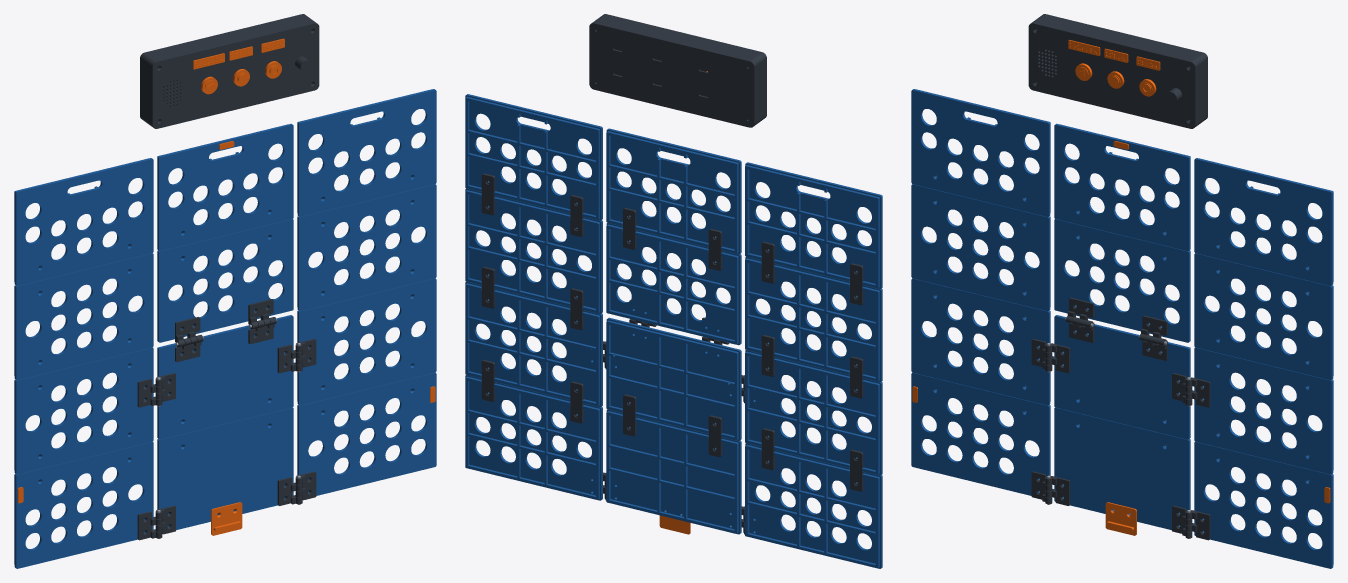
File: assembly_open.obj
3 views of the same model, side by side, from view 1: azimuth 30°, elevation 25°; view 2: azimuth 150°, elevation 25°; view 3: azimuth 330°, elevation 25° (orthographic).
Parts seen in each view (by area): view 1: panel_F1, panel_R4, panel_L4, panel_L3, panel_R3, panel_B2, panel_L2, panel_R2, panel_F2, panel_L1, panel_R1, panel_B1 (+9 smaller); view 2: control_base, panel_F1, panel_F2, panel_R4, panel_L4, panel_B2, panel_R1, panel_L1, panel_R2, panel_L2, panel_R3, panel_L3 (+17 smaller); view 3: panel_F1, panel_L4, panel_R4, panel_L3, panel_R3, panel_B2, panel_R2, panel_L2, panel_F2, panel_R1, panel_L1, control_lid (+9 smaller).
Part boxes in pixels (x1=…): panel_F1: x1=157, y1=407, x2=293, y2=530; panel_R4: x1=297, y1=89, x2=436, y2=216; panel_L4: x1=14, y1=158, x2=153, y2=285; panel_L3: x1=14, y1=253, x2=153, y2=380; panel_R3: x1=297, y1=184, x2=436, y2=311; panel_B2: x1=157, y1=123, x2=293, y2=251; panel_L2: x1=14, y1=347, x2=153, y2=474; panel_R2: x1=297, y1=278, x2=436, y2=405; panel_F2: x1=157, y1=315, x2=293, y2=439; panel_L1: x1=14, y1=441, x2=153, y2=568; panel_R1: x1=297, y1=372, x2=436, y2=495; panel_B1: x1=157, y1=219, x2=293, y2=342; control_base: x1=589, y1=15, x2=765, y2=127; panel_F1: x1=606, y1=409, x2=741, y2=534; panel_F2: x1=606, y1=317, x2=741, y2=440; panel_R4: x1=465, y1=94, x2=602, y2=220; panel_L4: x1=745, y1=162, x2=882, y2=288; panel_B2: x1=606, y1=128, x2=741, y2=254; panel_R1: x1=465, y1=375, x2=602, y2=500; panel_L1: x1=745, y1=443, x2=882, y2=568; panel_R2: x1=465, y1=281, x2=602, y2=407; panel_L2: x1=745, y1=350, x2=882, y2=475; panel_R3: x1=465, y1=188, x2=602, y2=313; panel_L3: x1=745, y1=256, x2=882, y2=382; panel_F1: x1=1054, y1=407, x2=1190, y2=530; panel_L4: x1=911, y1=89, x2=1050, y2=216; panel_R4: x1=1194, y1=158, x2=1333, y2=285; panel_L3: x1=911, y1=184, x2=1050, y2=311; panel_R3: x1=1194, y1=253, x2=1333, y2=380; panel_B2: x1=1054, y1=123, x2=1190, y2=251; panel_R2: x1=1194, y1=347, x2=1333, y2=474; panel_L2: x1=911, y1=278, x2=1050, y2=405; panel_F2: x1=1054, y1=315, x2=1190, y2=439; panel_R1: x1=1194, y1=441, x2=1333, y2=568; panel_L1: x1=911, y1=372, x2=1050, y2=495; control_lid: x1=1028, y1=22, x2=1196, y2=128.
Size of the model in its own units: 630 by 711 by 47.2.
